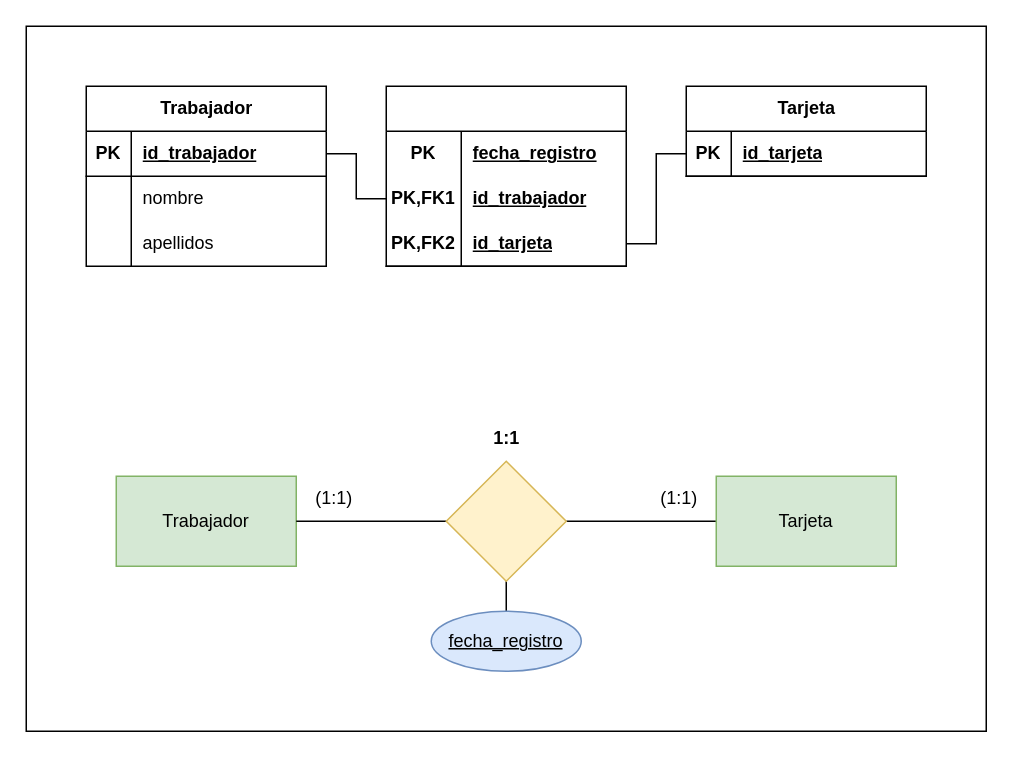
The diagram is 1013 pixels wide and 758 high, and some of its shapes have lost their labels. The box of each missing label's shape, as (x1, y1, x2, y2) in pixels:
asignar: (445, 460, 566, 581)
Trabajador_Tarjeta: (385, 85, 626, 266)
